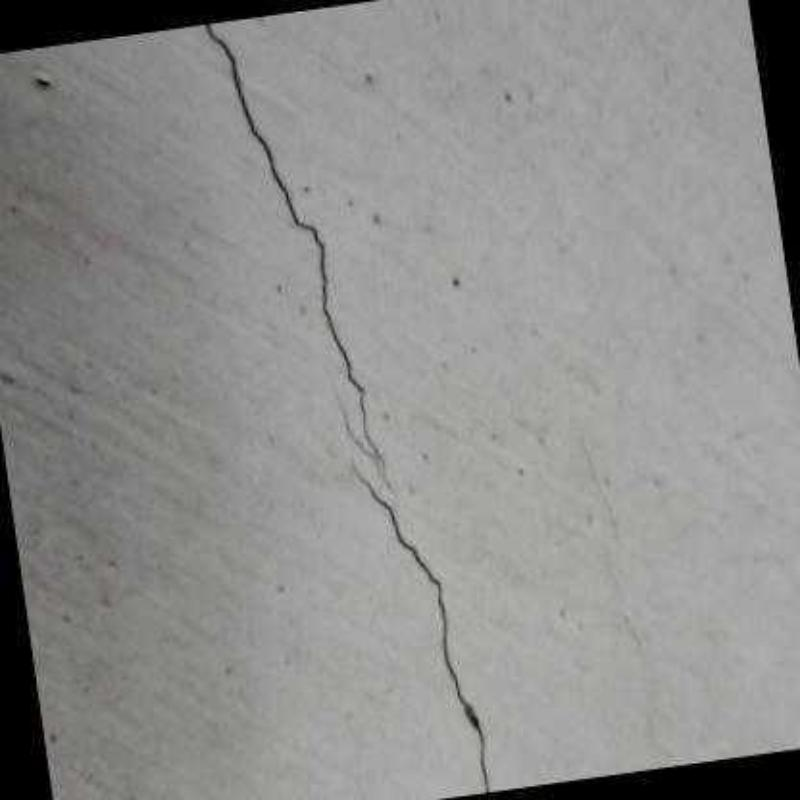pothole: (202, 23, 394, 493), (349, 461, 491, 793)
